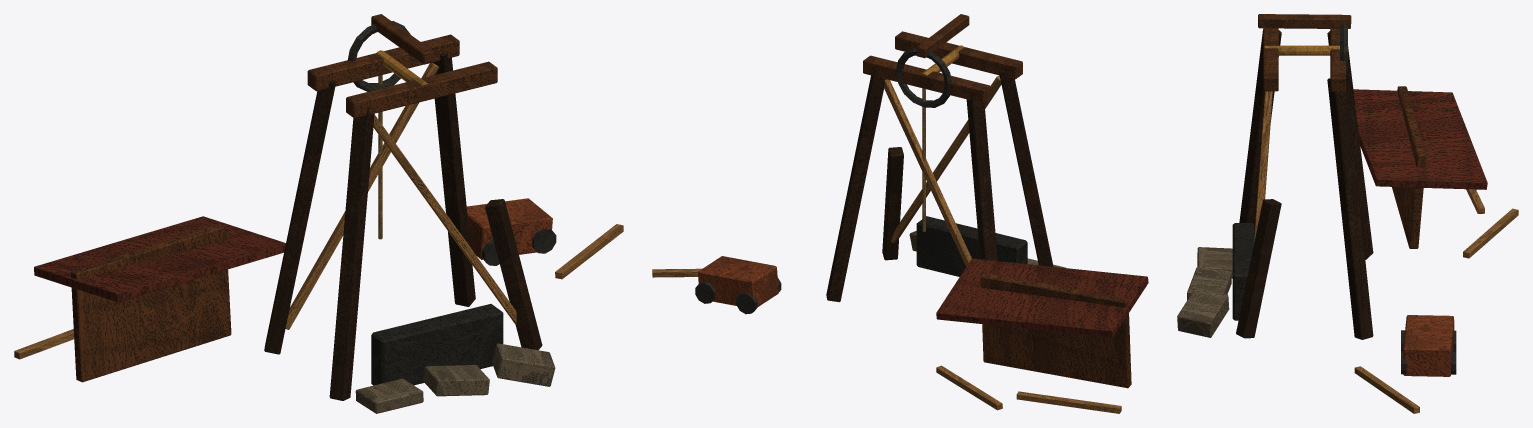
The model's file is ruined_mining_operation.glb.
3 renders of one model, left to right at view 1: azimuth 30°, elevation 25°; view 2: azimuth 150°, elevation 25°; view 3: azimuth 270°, elevation 25°, orthographic. The views are drawn at different scales.
Visible parts, largest first — view 1: ruined_mining_operation; view 2: ruined_mining_operation; view 3: ruined_mining_operation.
Part boxes in pixels (x1,y1,x2,y2): ruined_mining_operation: [14, 14, 623, 413]; ruined_mining_operation: [652, 14, 1148, 413]; ruined_mining_operation: [1177, 14, 1518, 413].
Bounding box in the file's own units: 11.46 × 6.06 × 6.6.
1 material, 1 textured.
